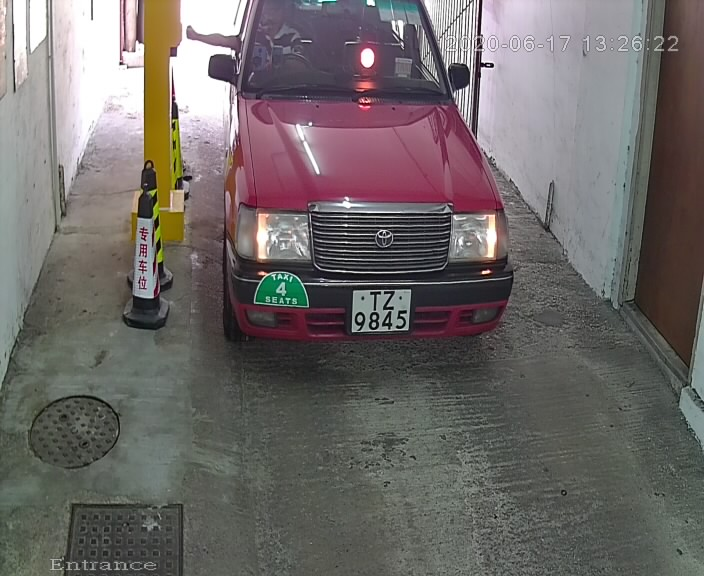taxi: (198, 2, 528, 359)
taxi_mark: (252, 269, 313, 313)
